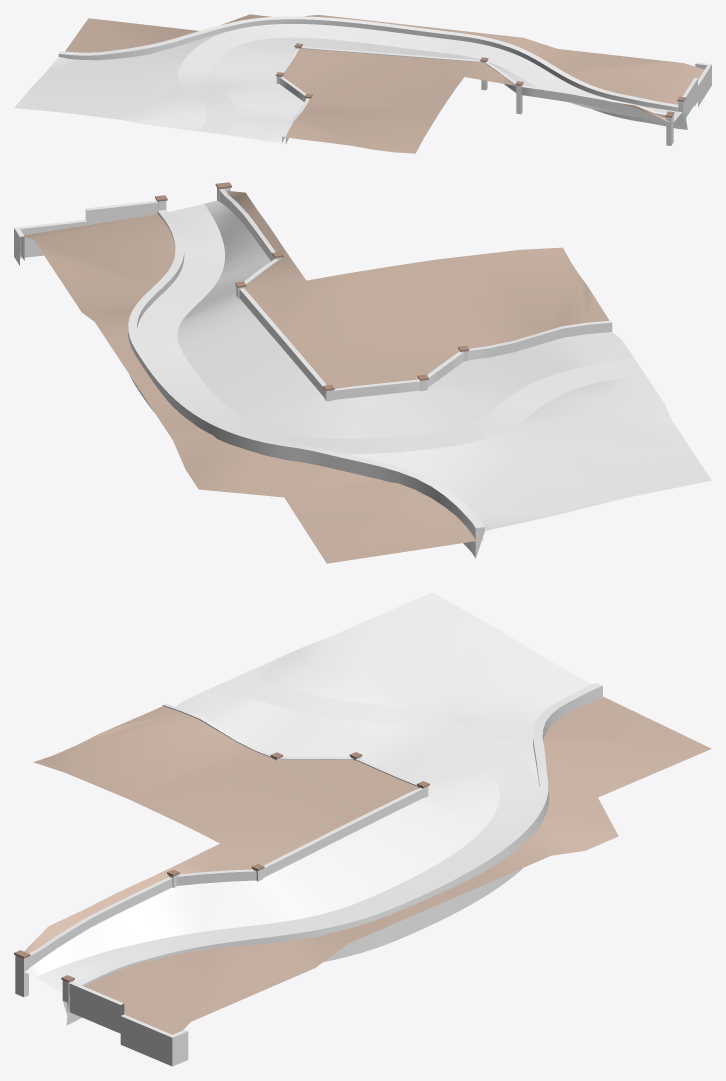
The model's file is s_park_convention_center.dae.
3 views of the same model, one above another, from view 1: azimuth 30°, elevation 25°; view 2: azimuth 150°, elevation 25°; view 3: azimuth 270°, elevation 25° (orthographic). The views are drawn at different scales.
Visible parts, largest first — view 1: park_convention_center_a500; view 2: park_convention_center_a500; view 3: park_convention_center_a500.
Boxes of the visible parts, x1=… form: park_convention_center_a500: x1=14, y1=14, x2=711, y2=153; park_convention_center_a500: x1=14, y1=182, x2=711, y2=563; park_convention_center_a500: x1=14, y1=592, x2=711, y2=1066.
Bounding box in the file's own units: 93.81 × 69.15 × 8.53.
